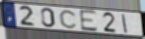0: (40, 7, 56, 29)
2: (19, 5, 37, 28), (102, 12, 118, 34)
C: (58, 9, 79, 30)
E: (78, 9, 99, 33)
I: (121, 13, 129, 34)
